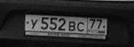license-plateSW: (25, 13, 108, 35)
